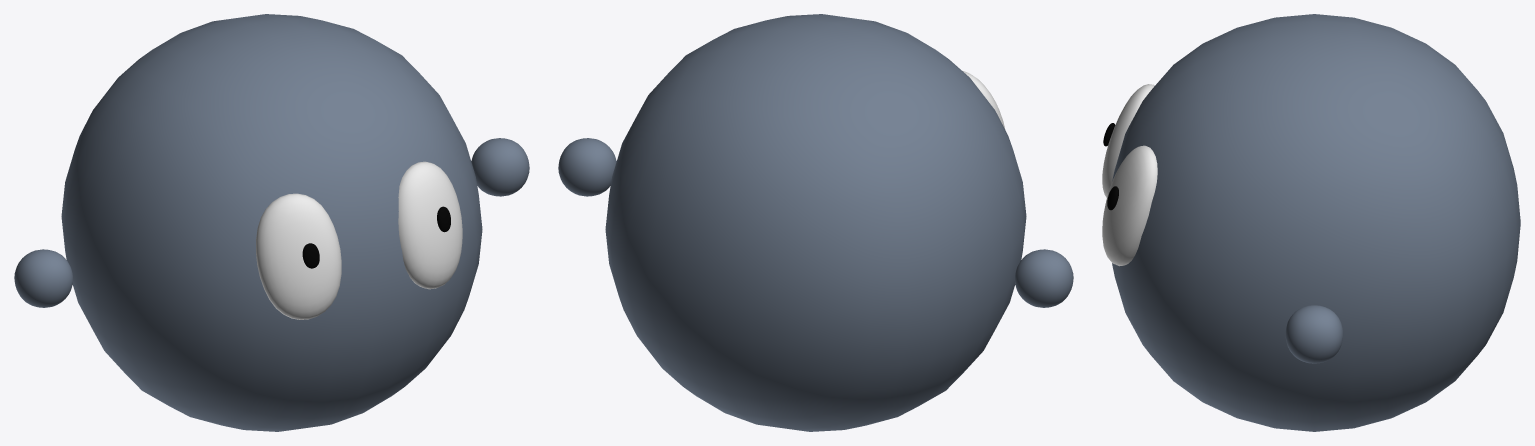
The model's file is Normal_form.fbx.
The picture shows the model from 3 angles, left to right: view 1: azimuth 30°, elevation 25°; view 2: azimuth 150°, elevation 25°; view 3: azimuth 270°, elevation 25°; orthographic projection.
Parts seen in each view (by area): view 1: Body, R_Sclera, L_Sclera, R_Hand, L_Hand; view 2: Body, R_Hand, L_Hand; view 3: Body, L_Sclera, L_Hand, R_Sclera.
Boxes of the visible parts, x1,y1,x2,y2 form: Body: (61,14,482,431); R_Sclera: (256,193,341,319); L_Sclera: (398,161,462,289); R_Hand: (14,249,73,307); L_Hand: (471,138,529,196); Body: (605,14,1026,431); R_Hand: (1014,249,1073,307); L_Hand: (558,138,616,196); Body: (1112,14,1520,431); L_Sclera: (1102,145,1157,266); L_Hand: (1285,305,1343,363); R_Sclera: (1102,84,1154,197).
Bounding box in the file's own units: 6.02 × 4.25 × 4.31.
